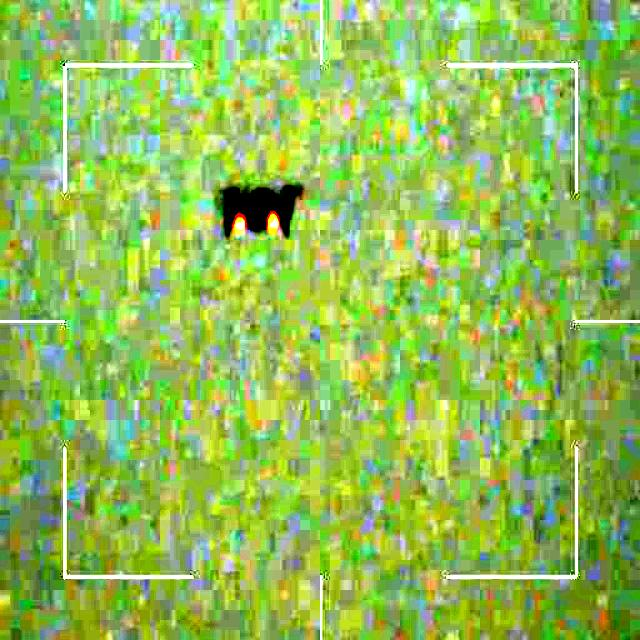bird: (219, 180, 305, 240)
